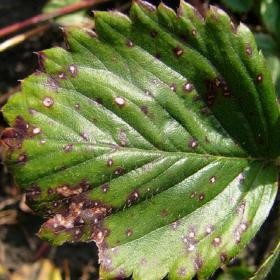Leaf Spot: (0, 0, 279, 279)
